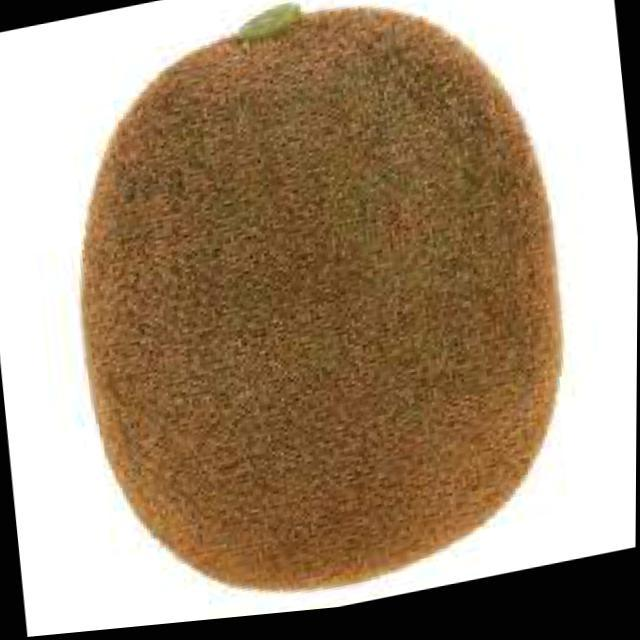kiwi: (50, 1, 586, 636)
